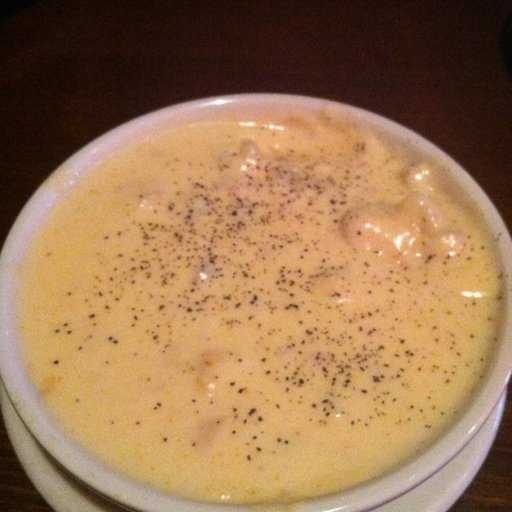soup: (7, 90, 512, 496)
